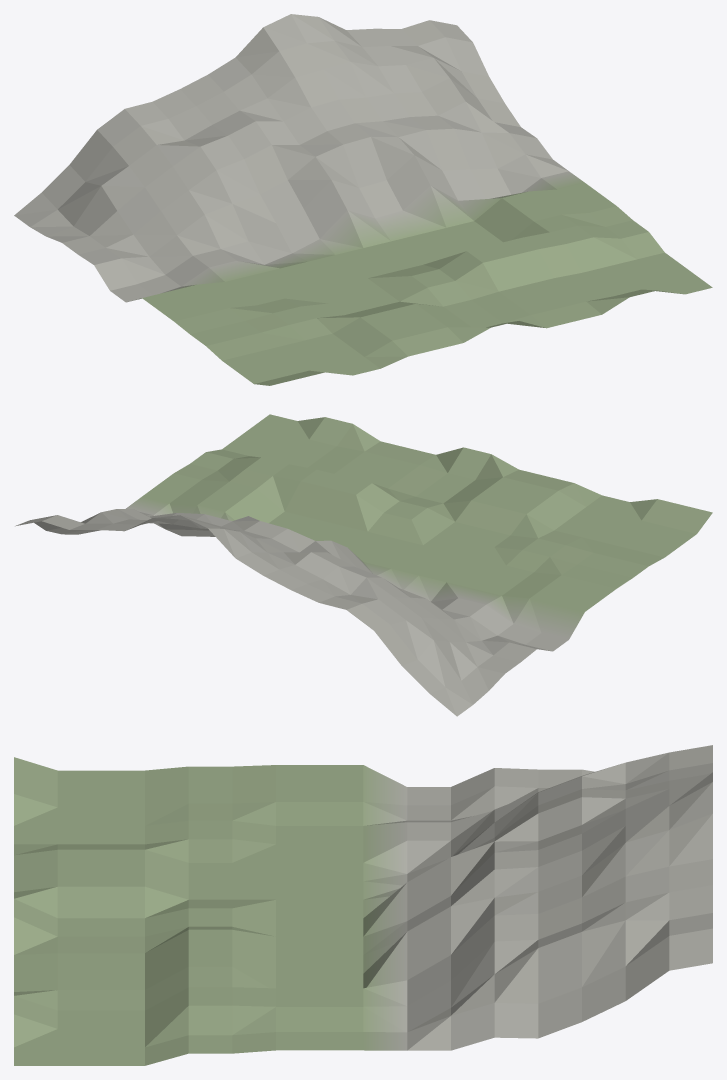
3 renders of one model, top to bottom at view 1: azimuth 30°, elevation 25°; view 2: azimuth 150°, elevation 25°; view 3: azimuth 270°, elevation 25°, orthographic. The views are drawn at different scales.
Bounding box in the file's own units: 32 × 9.59 × 32.
